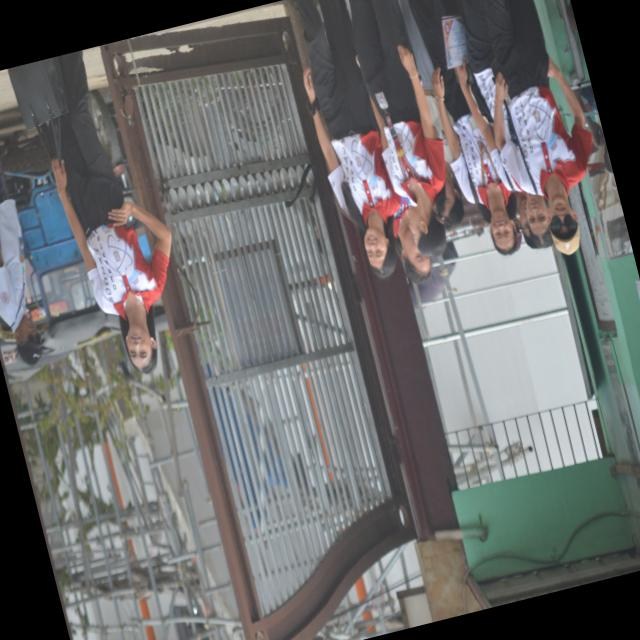person: (52, 51, 171, 373), (296, 0, 400, 277), (409, 0, 517, 254), (484, 0, 591, 253), (350, 0, 446, 255), (399, 0, 464, 224), (0, 158, 43, 365), (456, 59, 521, 190), (394, 196, 431, 283)
